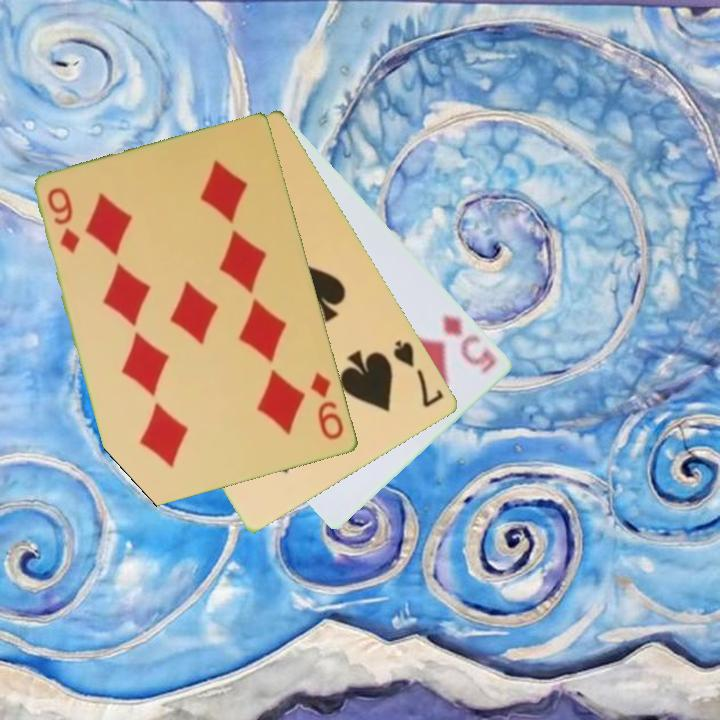5d: (439, 310, 500, 377)
7s: (390, 336, 448, 411)
9d: (307, 369, 347, 443), (44, 184, 84, 257)
